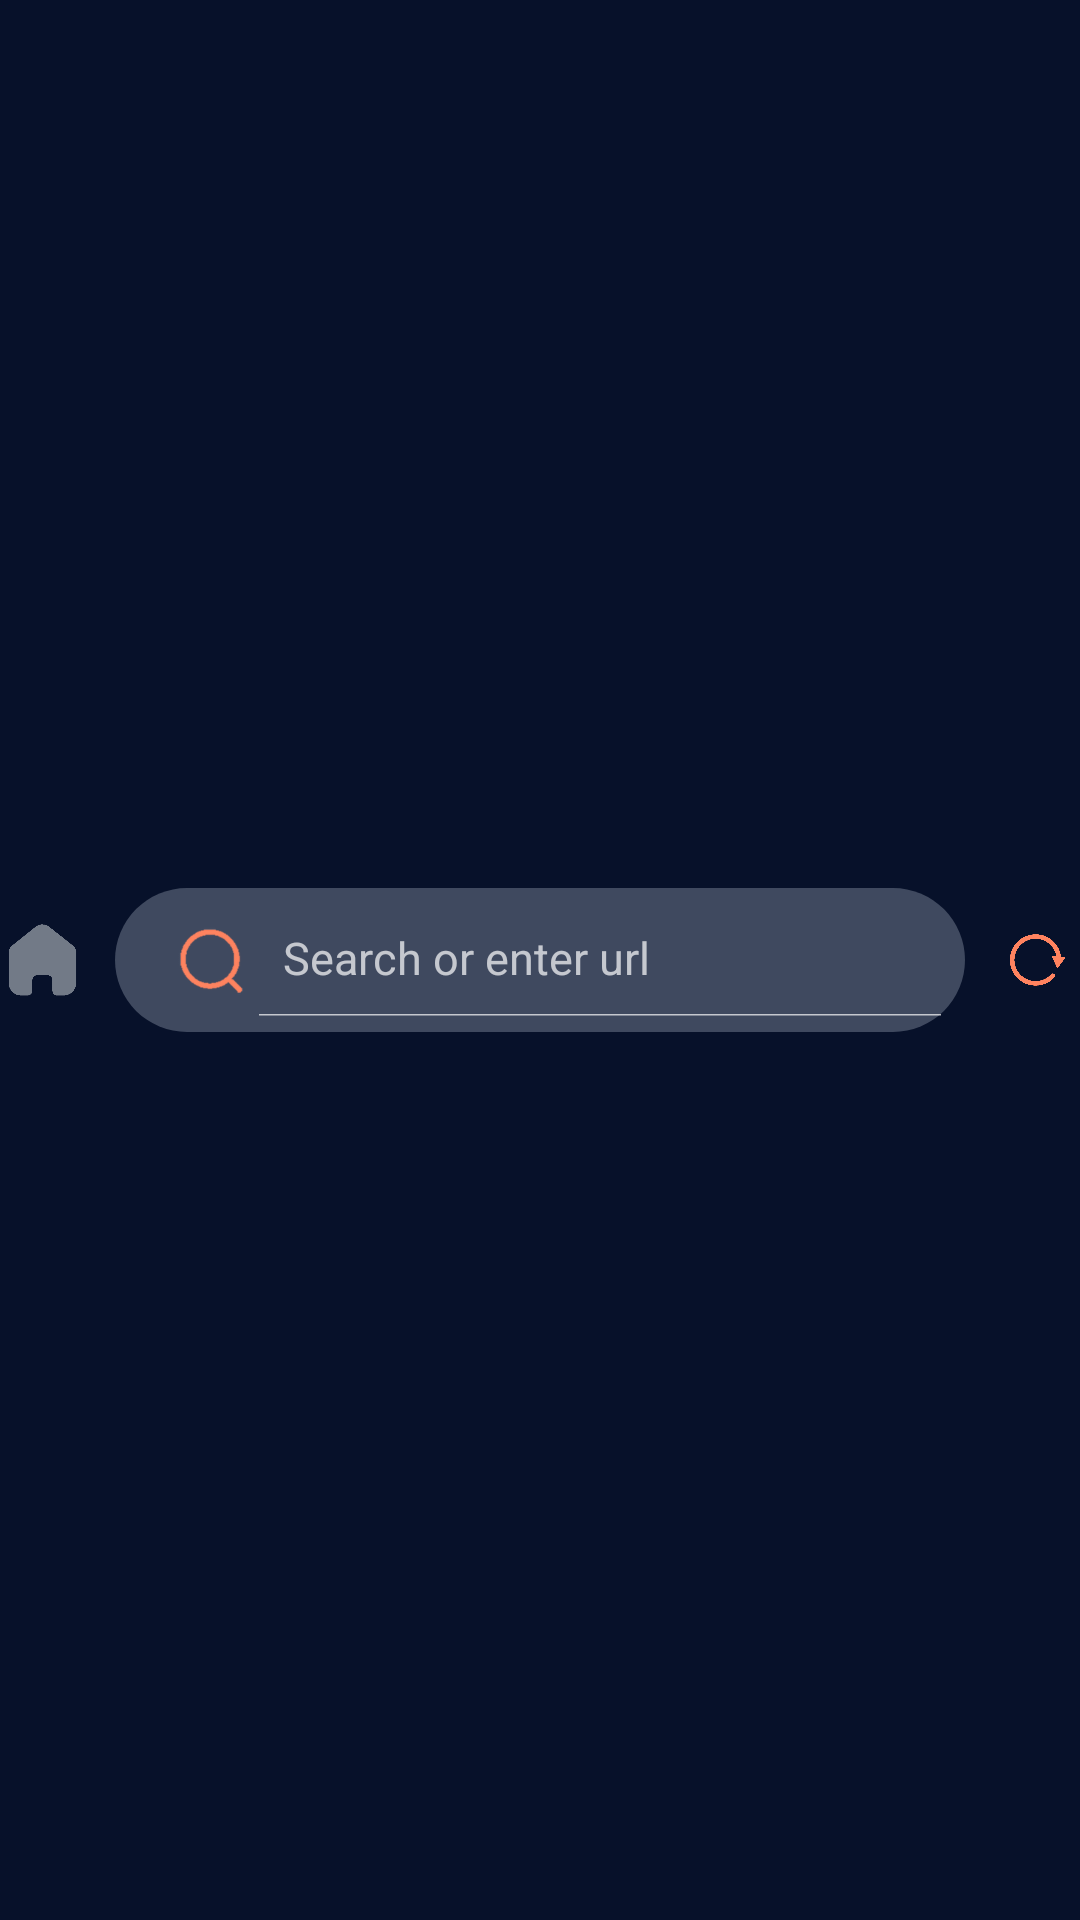

Screen size 1080*1920. Icon name, then its box in pixels as [x1,y1,x2,y2]:
home: [9,924,76,996]
refresh: [1010,934,1065,986]
